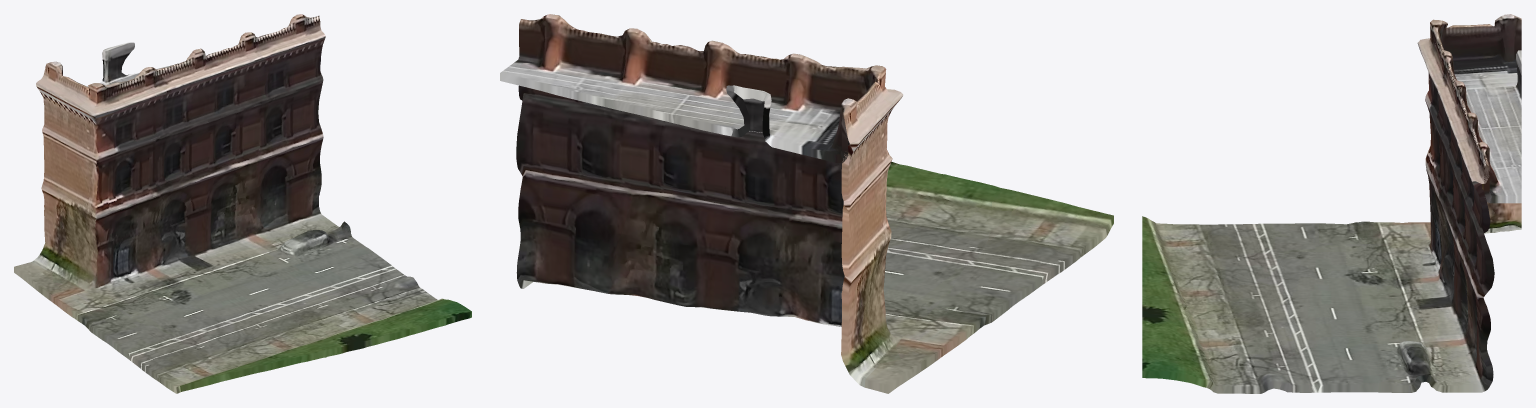
File: z20-167766-405193-h0-yup-uvflip-v3-world.glb
3 views of the same model, side by side, from view 1: azimuth 30°, elevation 25°; view 2: azimuth 150°, elevation 25°; view 3: azimuth 270°, elevation 25° (orthographic). The views are drawn at different scales.
Size of the model in its own units: 30.16 by 21.12 by 30.32.
Materials: 1 (1 with a texture image).
